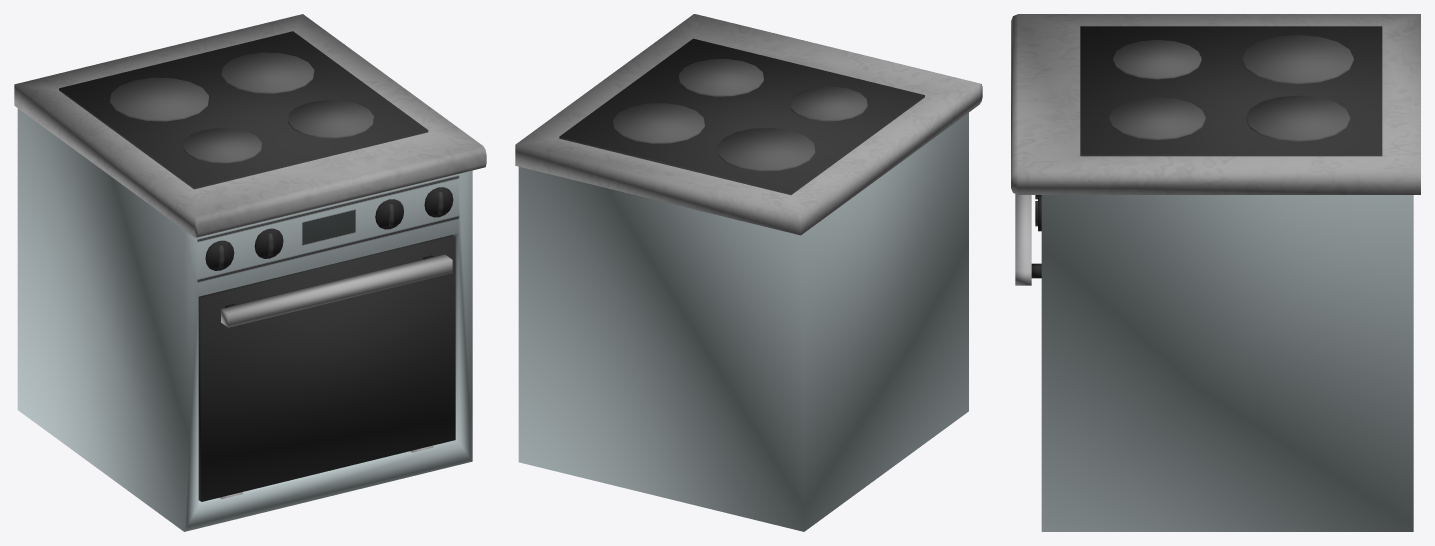
File: Oven.B.fbx
The picture shows the model from 3 angles, left to right: view 1: azimuth 30°, elevation 25°; view 2: azimuth 150°, elevation 25°; view 3: azimuth 270°, elevation 25°; orthographic projection. The views are drawn at different scales.
Parts seen in each view (by area): view 1: Oven.B; view 2: Oven.B; view 3: Oven.B.
Boxes of the visible parts, x1=… form: Oven.B: x1=14, y1=14, x2=486, y2=531; Oven.B: x1=515, y1=14, x2=982, y2=531; Oven.B: x1=1011, y1=14, x2=1420, y2=531.
Bounding box in the file's own units: 88.61 × 97.83 × 97.67.
